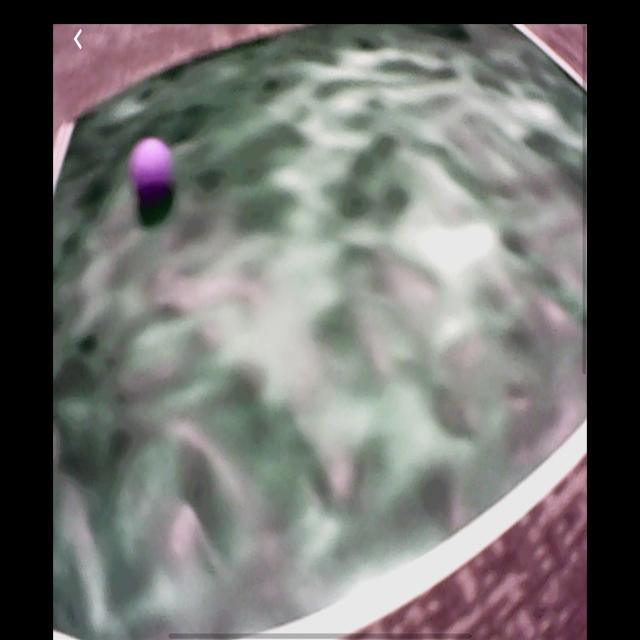ball: (130, 140, 171, 198)
